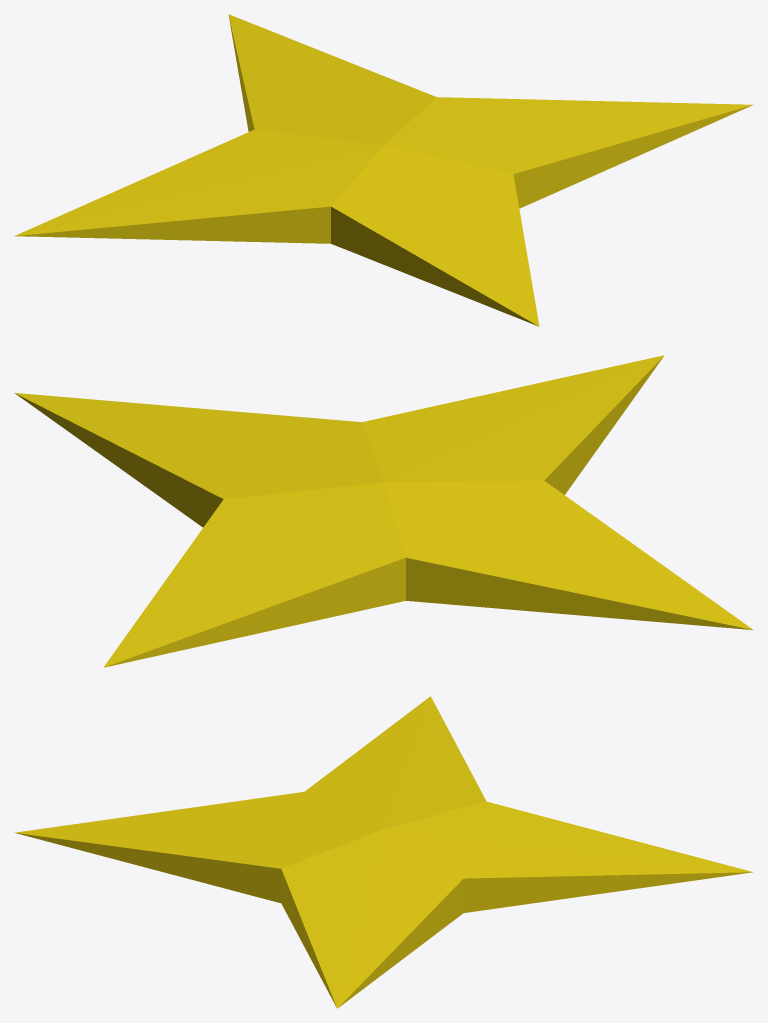
The model's file is StarZ.fbx.
3 renders of one model, top to bottom at view 1: azimuth 30°, elevation 25°; view 2: azimuth 150°, elevation 25°; view 3: azimuth 270°, elevation 25°, orthographic. The views are drawn at different scales.
Visible parts, largest first — view 1: Star; view 2: Star; view 3: Star.
Part boxes in pixels (x1,y1,x2,y2): Star: (14, 14, 753, 326); Star: (15, 355, 752, 667); Star: (14, 696, 753, 1008).
Bounding box in the file's own units: 173 × 12.09 × 173.
